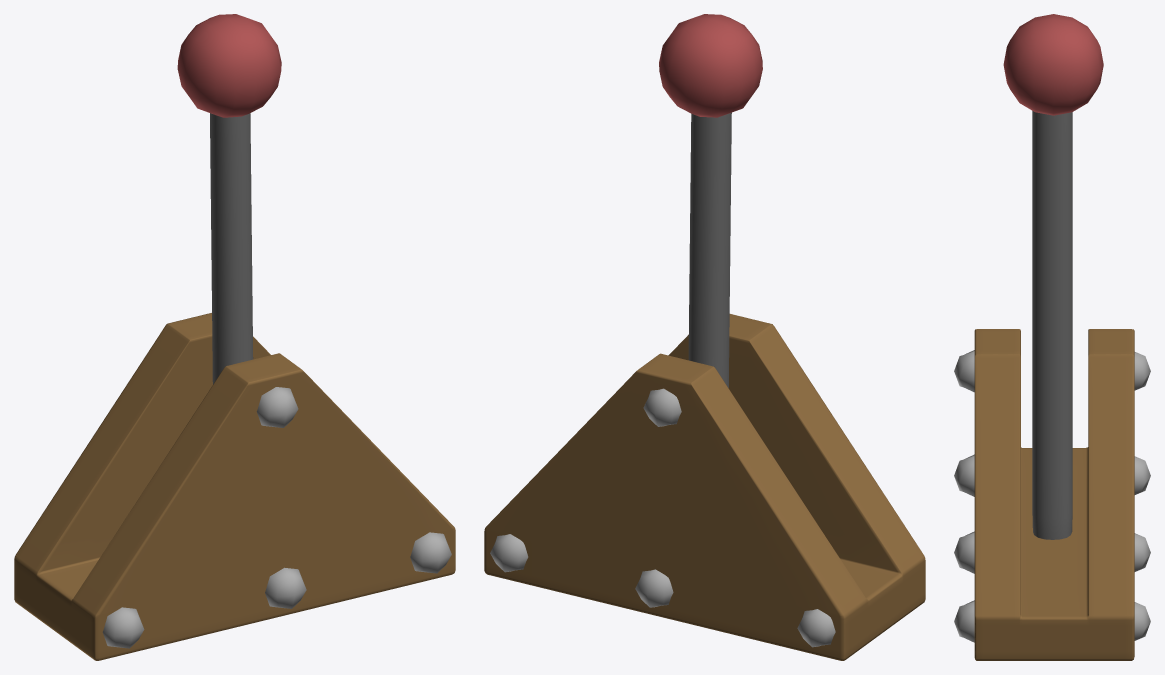
The model's file is Lever.fbx.
The picture shows the model from 3 angles, left to right: view 1: azimuth 30°, elevation 25°; view 2: azimuth 150°, elevation 25°; view 3: azimuth 270°, elevation 25°; orthographic projection. The views are drawn at different scales.
Visible parts, largest first — view 1: Box, Pole; view 2: Box, Pole; view 3: Box, Pole.
Boxes of the visible parts, x1,y1,x2,y2 form: Box: (14, 313, 455, 660); Pole: (177, 14, 281, 384); Box: (484, 314, 925, 660); Pole: (659, 14, 762, 387); Box: (954, 329, 1150, 660); Pole: (1003, 14, 1103, 539).
Bounding box in the file's own units: 79.63 × 120 × 38.69.
